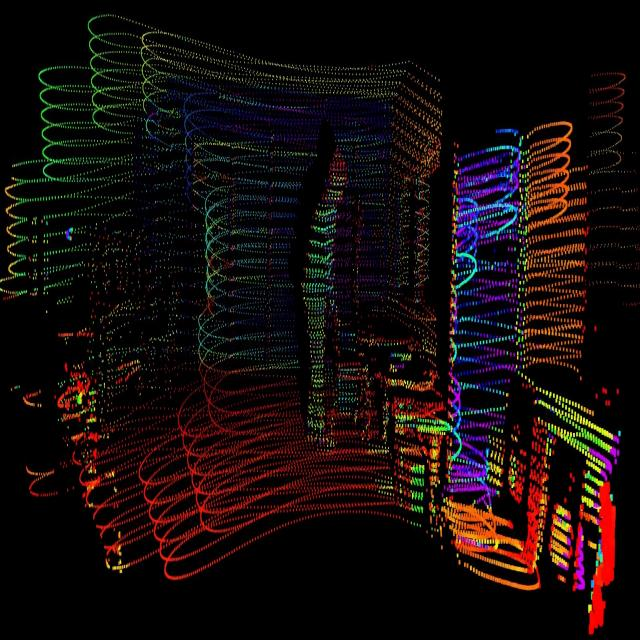human: (294, 136, 356, 464)
